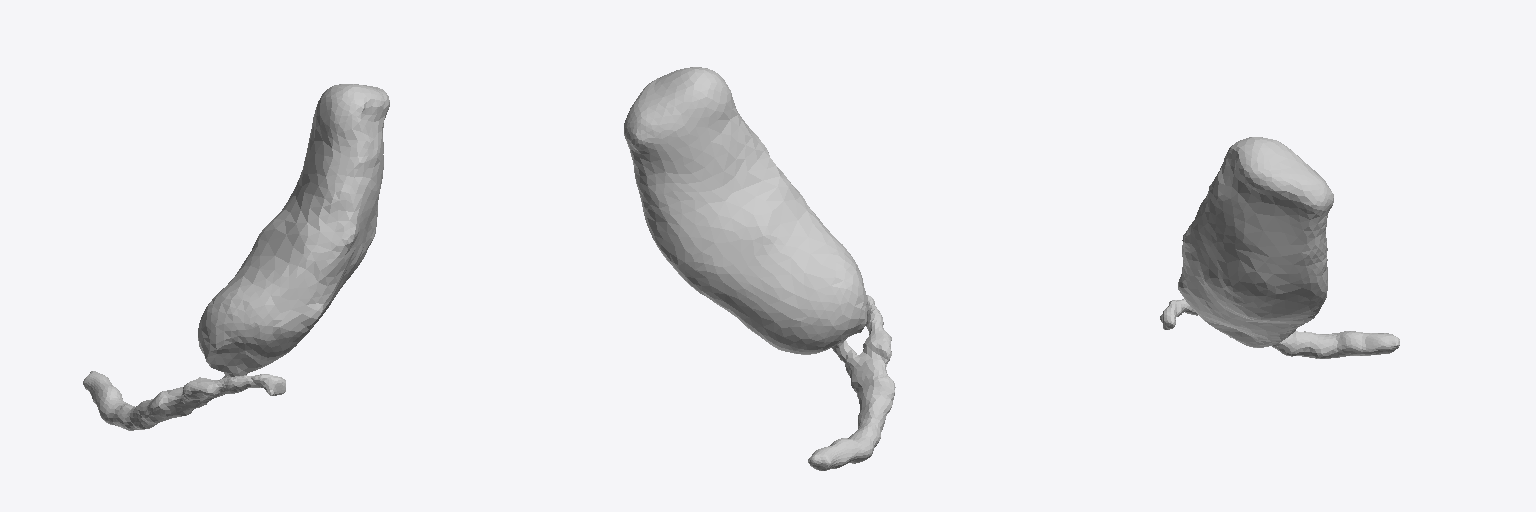
File: gallbladder.obj
3 renders of one model, left to right at view 1: azimuth 30°, elevation 25°; view 2: azimuth 150°, elevation 25°; view 3: azimuth 270°, elevation 25°, orthographic.
Parts seen in each view (by area): view 1: gallbladder; view 2: gallbladder; view 3: gallbladder.
Boxes of the visible parts, x1=… form: gallbladder: x1=83, y1=84, x2=389, y2=430; gallbladder: x1=624, y1=67, x2=895, y2=470; gallbladder: x1=1160, y1=137, x2=1399, y2=358.
Size of the model in its own units: 71.7 by 84.02 by 58.17.